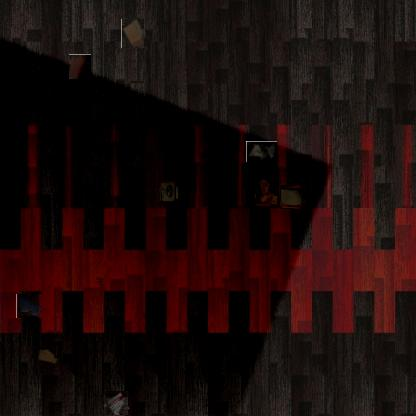dirty: (121, 18, 144, 48), (254, 179, 280, 205), (246, 141, 277, 162), (104, 392, 129, 416), (279, 186, 301, 208), (37, 346, 59, 364), (159, 183, 178, 202)
liquid: (16, 294, 43, 318), (69, 55, 92, 78)
